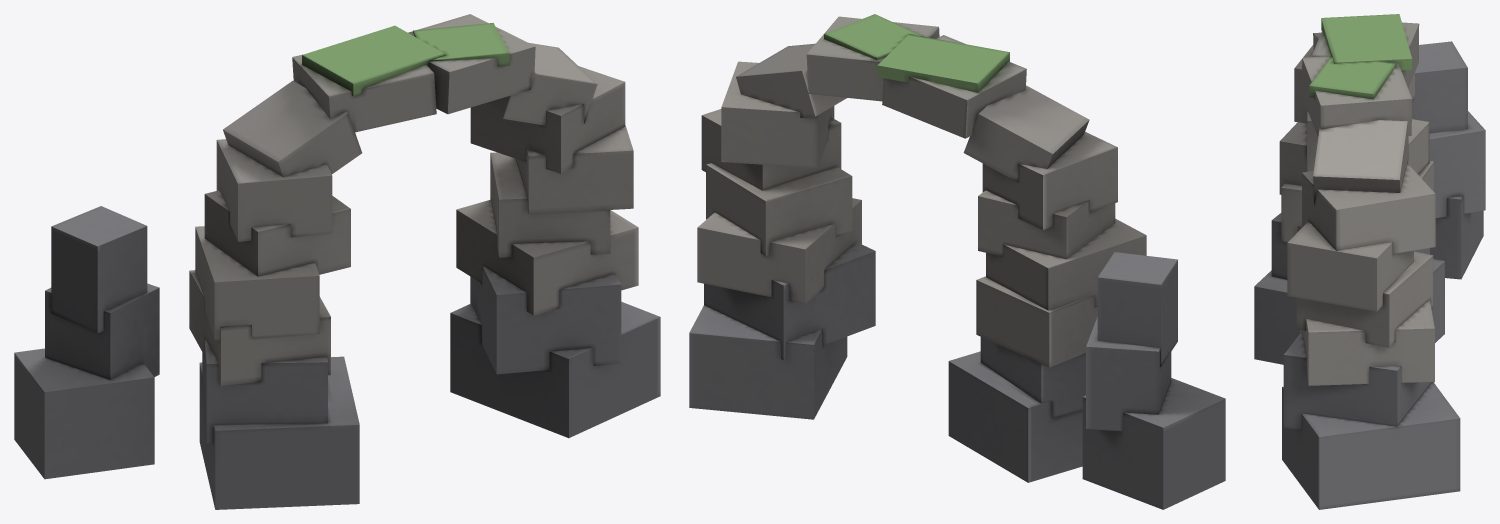
File: seaarch.glb
The picture shows the model from 3 angles, left to right: view 1: azimuth 30°, elevation 25°; view 2: azimuth 150°, elevation 25°; view 3: azimuth 270°, elevation 25°; orthographic projection. The views are drawn at different scales.
Parts seen in each view (by area): view 1: seaarch; view 2: seaarch; view 3: seaarch.
Boxes of the visible parts, x1,y1,x2,y2 form: seaarch: (14,14,660,509); seaarch: (689,14,1225,509); seaarch: (1254,14,1485,509).
Size of the model in its own units: 43.41 by 27.86 by 16.47.
3 materials, 3 textured.
